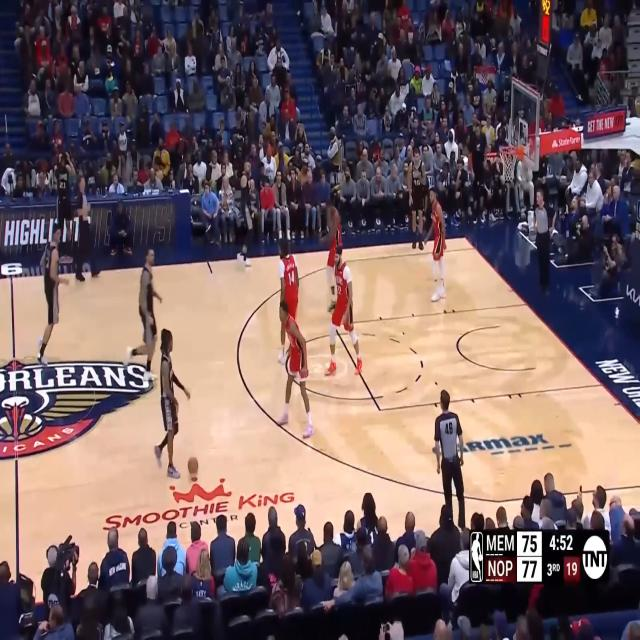Ball: (188, 456, 198, 475)
Clock: (539, 0, 551, 46)
Hoop: (499, 146, 519, 182)
Overlay: (469, 531, 610, 588)
Player: (278, 298, 316, 442), (154, 328, 190, 479), (323, 244, 362, 377), (124, 245, 162, 380), (35, 222, 70, 366), (318, 197, 344, 312), (278, 238, 300, 368), (424, 186, 446, 302), (237, 159, 258, 271), (408, 147, 427, 251)
Ref: (434, 390, 466, 533), (75, 175, 100, 282), (533, 188, 556, 294)
Scoreboard: (485, 530, 580, 584)
